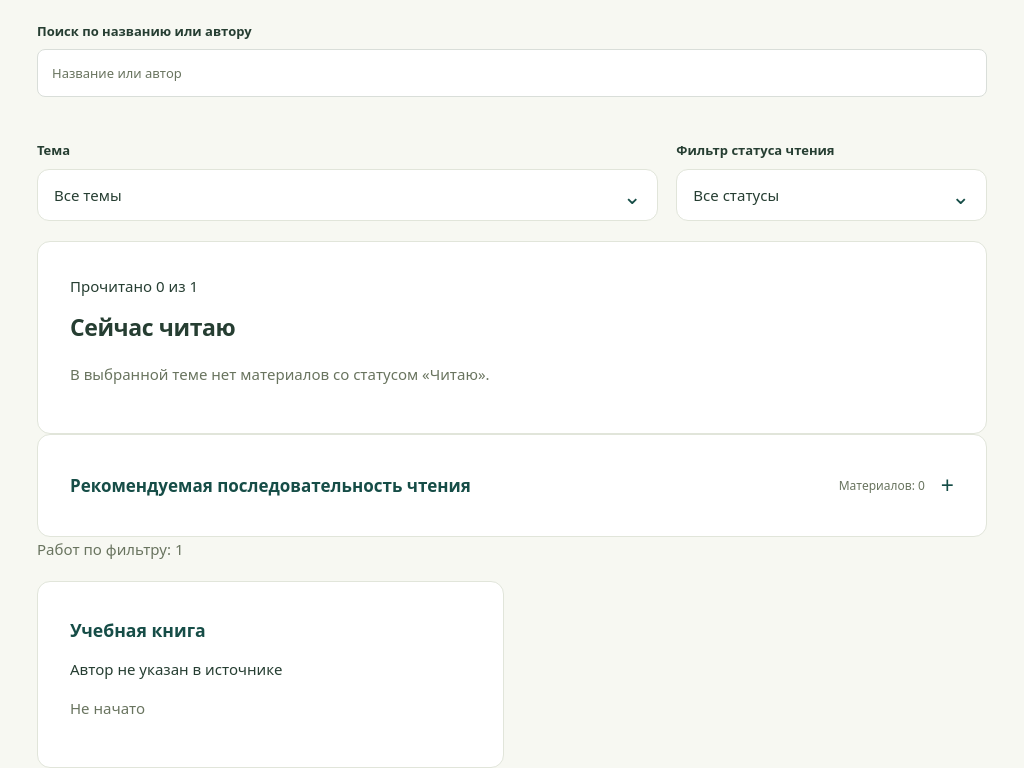
Test: keeps bibliographic text but hides obsolete source file metadata in pwa
(page scrolled)
Click the button "Учебная книга".
click(138, 630)  # box [70, 614, 206, 647]
(page scrolled)
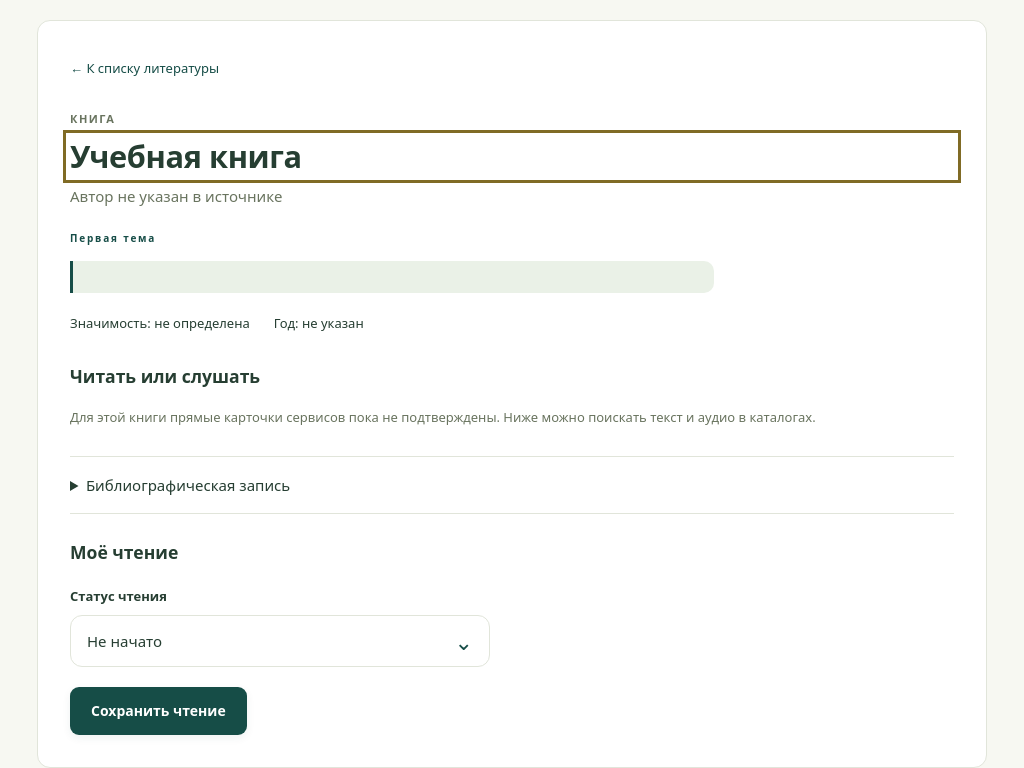
Click the heading "Библиографическая запись".
click(188, 485)  # box [86, 475, 290, 495]
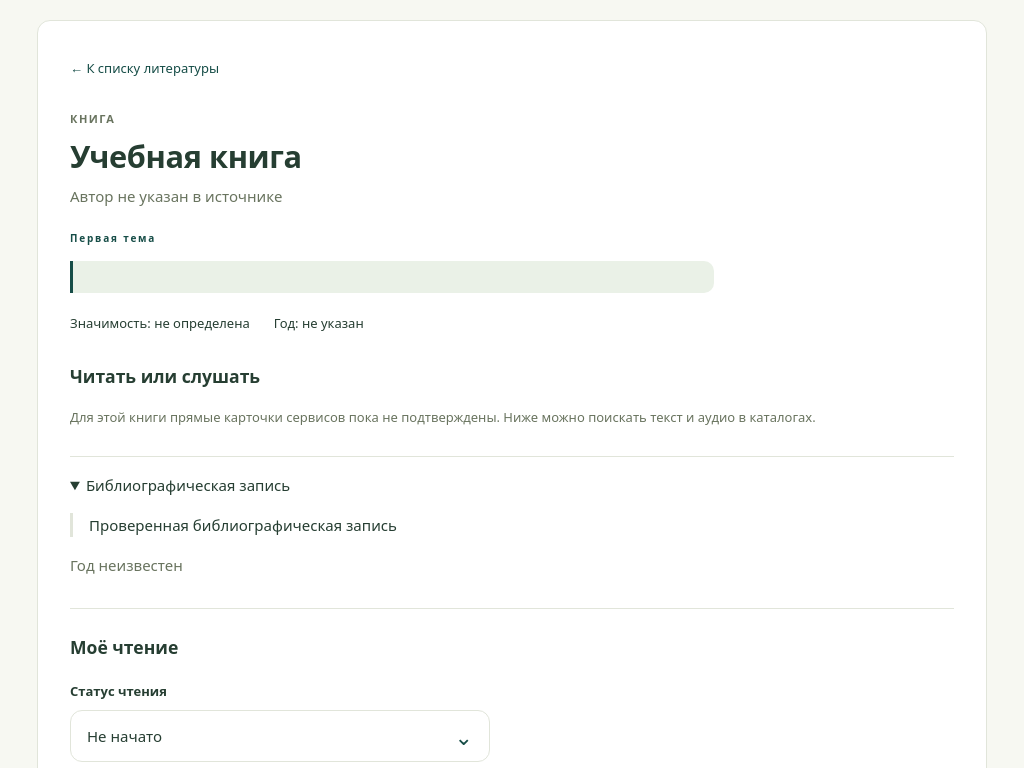
Expected: the text "Проверенная библиографическая запись" is shown, [70, 513, 954, 537]
Expected: the text "Год неизвестен" is shown, [70, 555, 183, 575]
